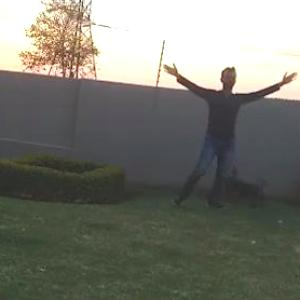takeoff: (162, 67, 284, 202)
